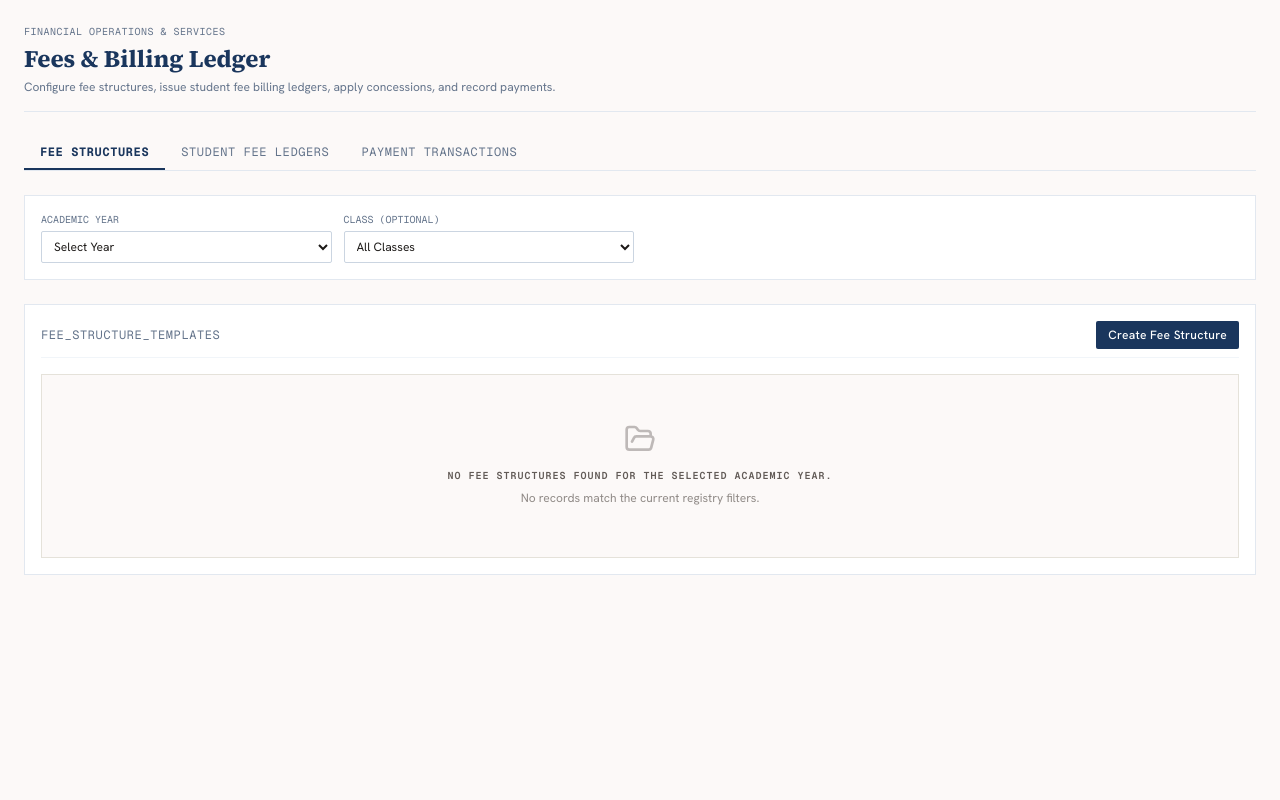
FeesPage Component › 7. loads payment transactions tab and opens receipt details
Click the button "Payment Transactions".
click(439, 153)  # box [345,136,533,170]
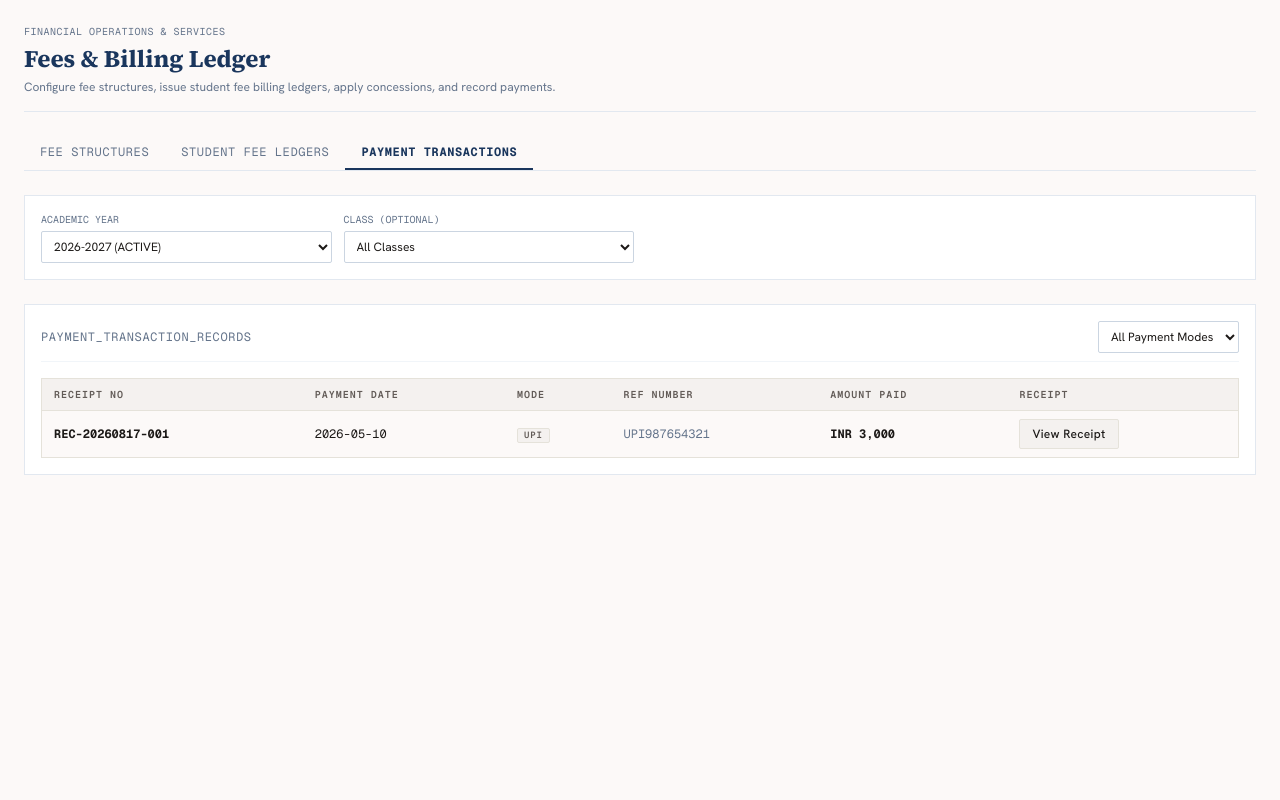
Result: the text "REC-20260817-001" is shown at [42,410,303,457]
Click the button "View Receipt".
click(1069, 434)  # box [1019,419,1118,449]
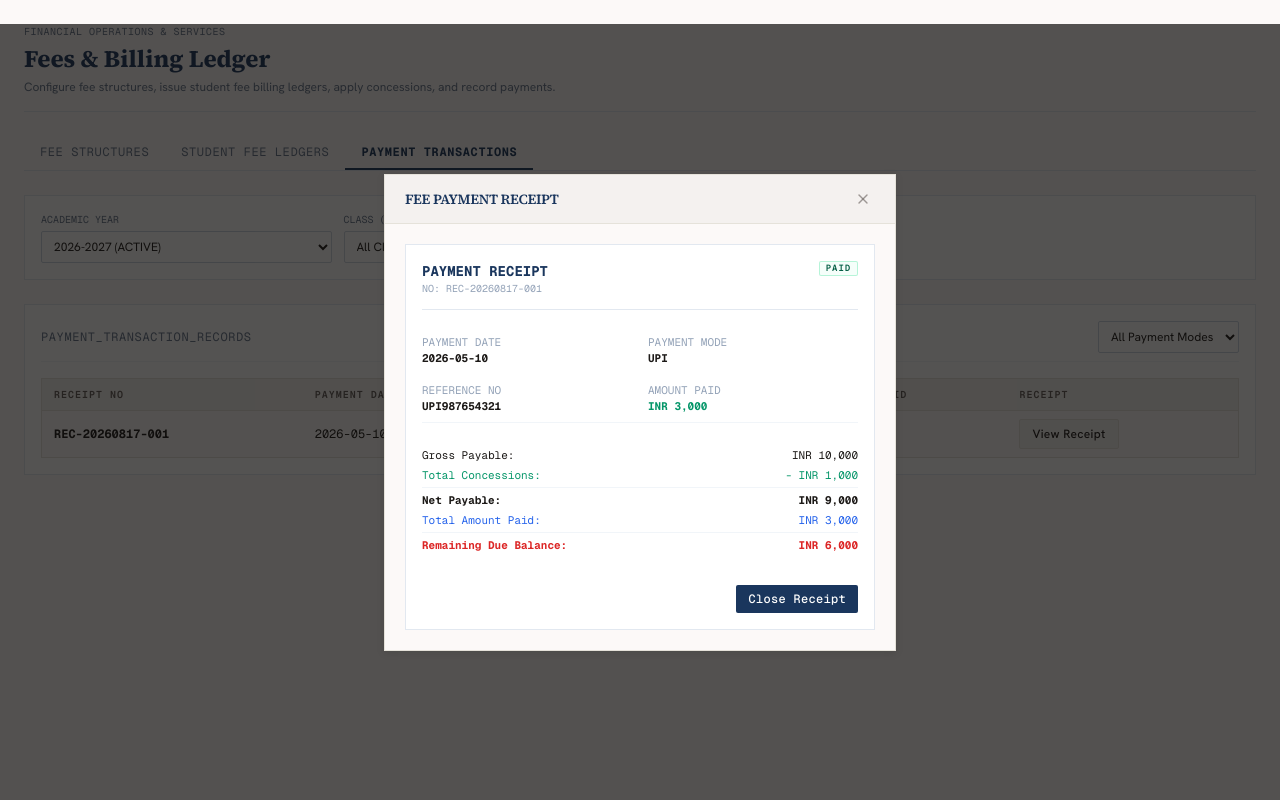
Result: the heading "FEE PAYMENT RECEIPT" is shown at [405,188,558,208]
